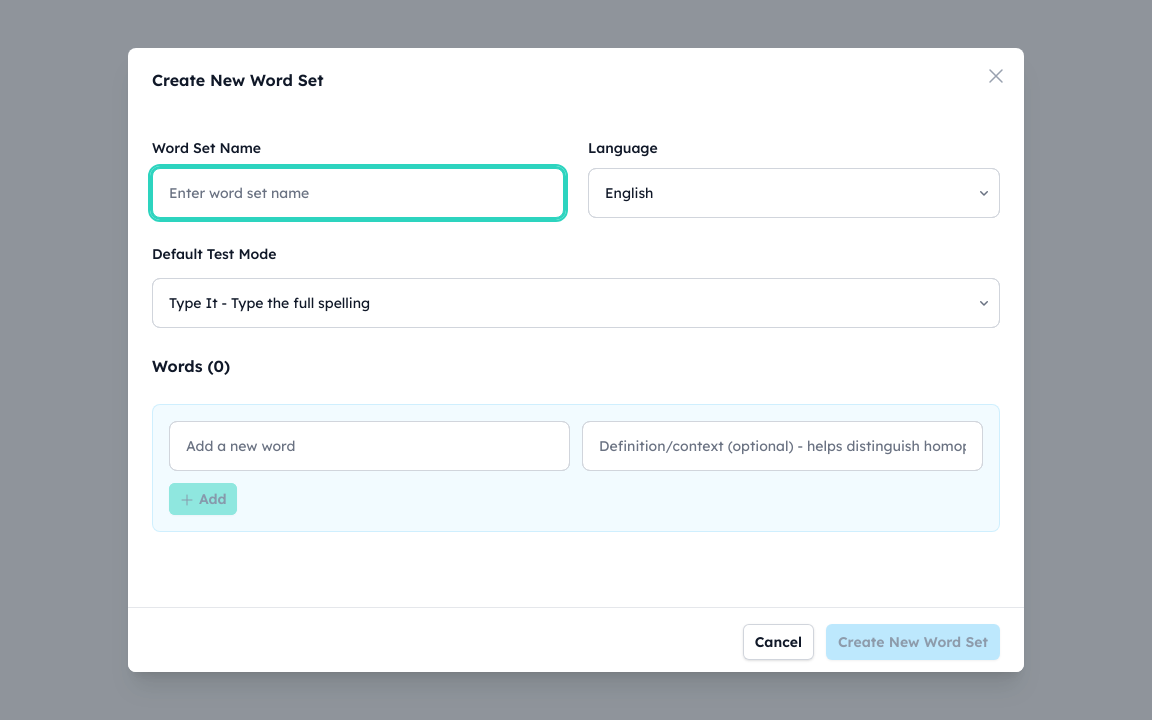
Scenario: WordSetEditor - Mode Selection › shows target language selector when translation mode is selected
Expected: the field labelled "translate to" is not shown
Select "Switch Languages - Type in other language" in the dropdown labelled "Default Test Mode" at (576, 303), box [152,278,1000,328]
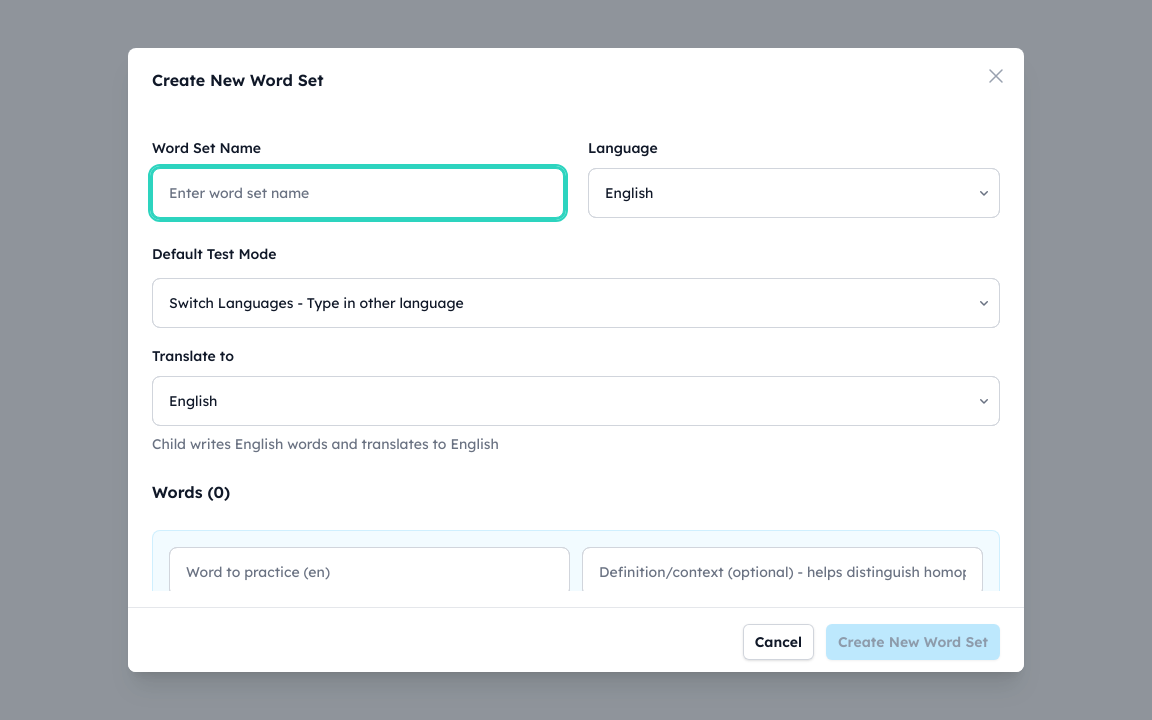
Result: the dropdown labelled "Translate to" is shown at [152,376,1000,426]
